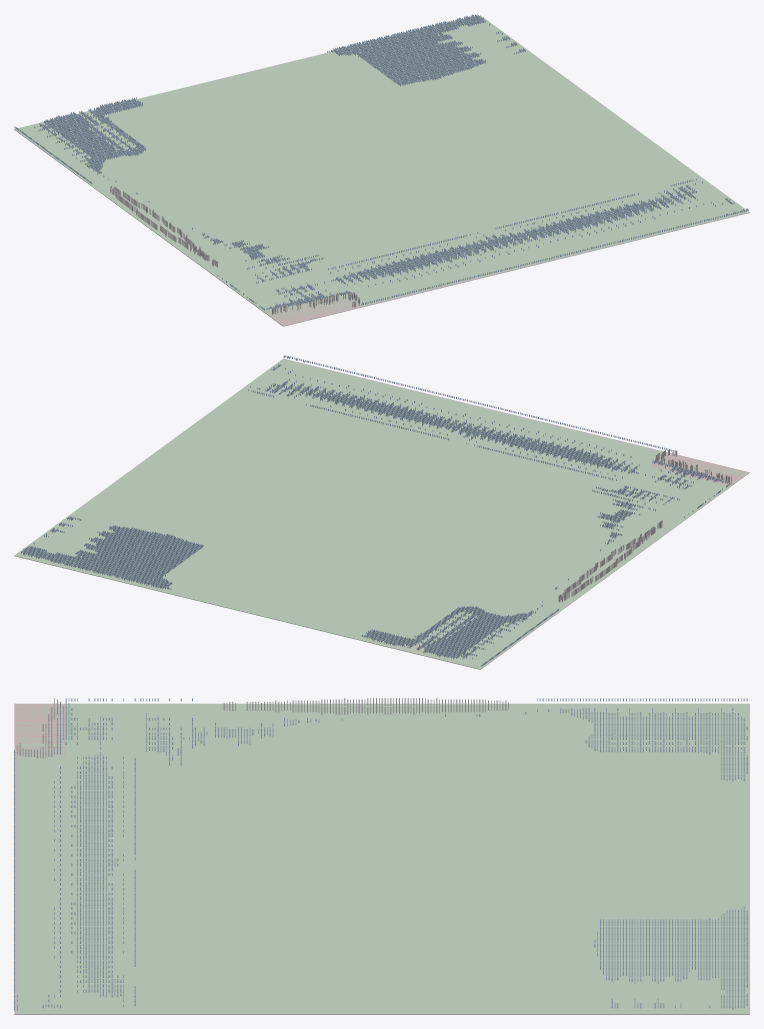
File: floorplan_plan_style.glb
The picture shows the model from 3 angles, top to bottom: view 1: azimuth 30°, elevation 25°; view 2: azimuth 150°, elevation 25°; view 3: azimuth 270°, elevation 25°; orthographic projection. The views are drawn at different scales.
Visible parts, largest first — view 1: world; view 2: world; view 3: world.
Part boxes in pixels (left/top/right/bottom): world: left=14, top=14, right=749, bottom=326; world: left=14, top=355, right=749, bottom=669; world: left=14, top=698, right=749, bottom=1014.
Size of the model in its own units: 256 by 3.2 by 256.
